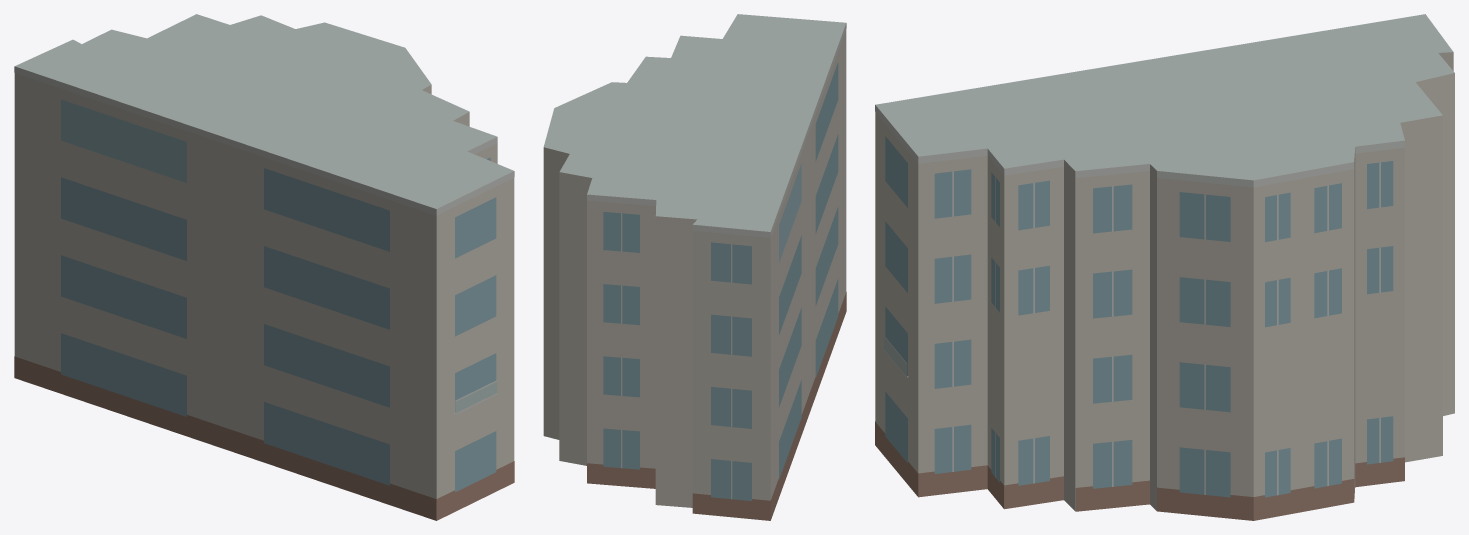
File: survey-upis-32477825.glb
The picture shows the model from 3 angles, left to right: view 1: azimuth 30°, elevation 25°; view 2: azimuth 150°, elevation 25°; view 3: azimuth 270°, elevation 25°; orthographic projection. The views are drawn at different scales.
Visible parts, largest first — view 1: survey-upis-32477825.tmp; view 2: survey-upis-32477825.tmp; view 3: survey-upis-32477825.tmp.
Part boxes in pixels (x1,y1,x2,y2): survey-upis-32477825.tmp: [14, 14, 514, 520]; survey-upis-32477825.tmp: [543, 14, 846, 520]; survey-upis-32477825.tmp: [875, 14, 1454, 520].
Size of the model in its own units: 12.37 by 11.8 by 18.21.
